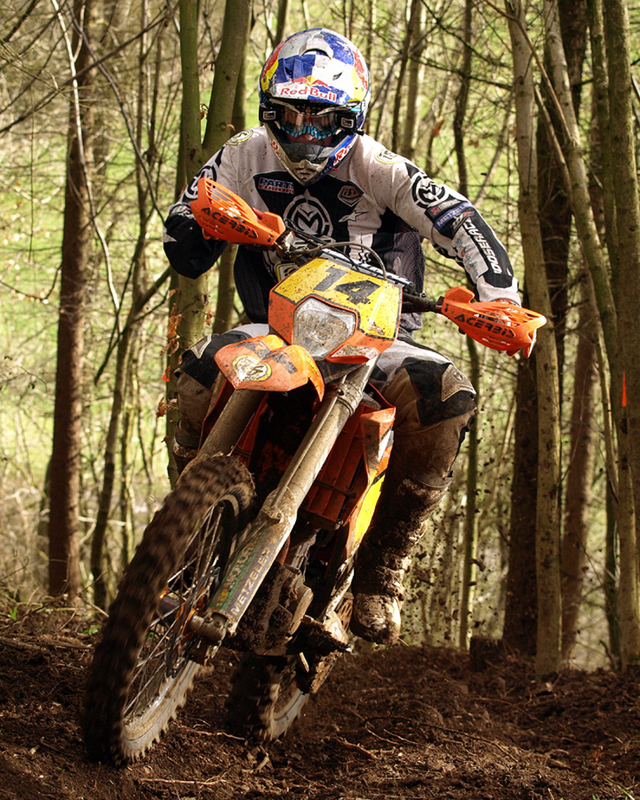helmet: (258, 29, 372, 182)
